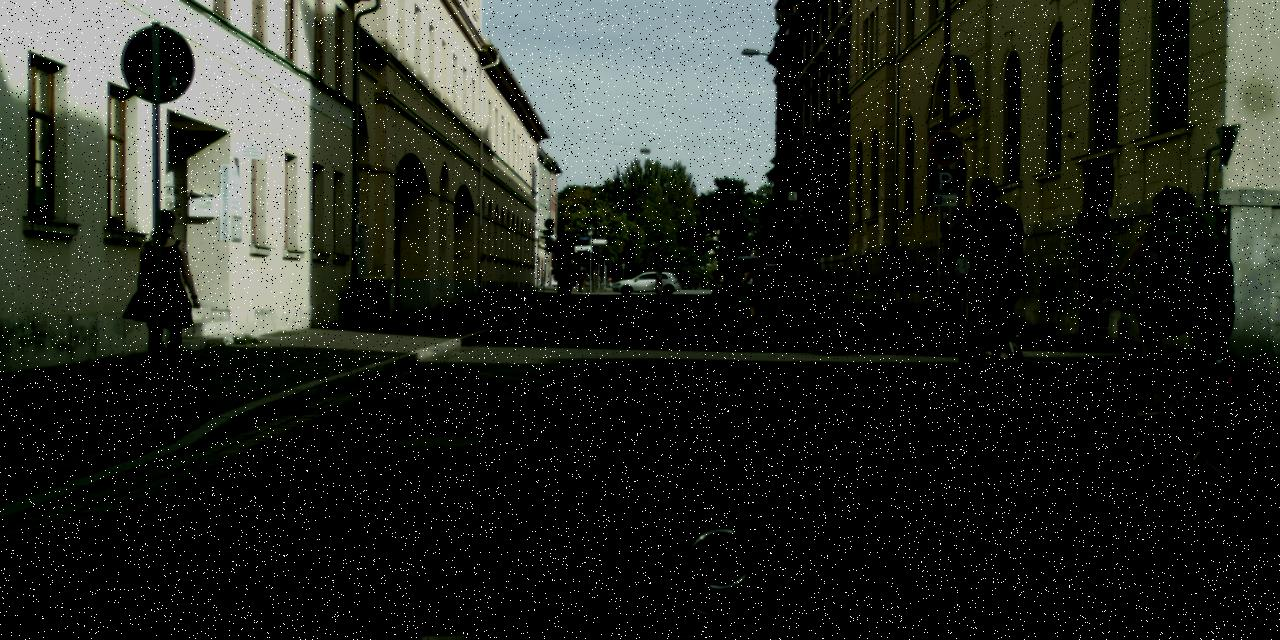ped: (1128, 187, 1232, 441), (947, 175, 1032, 384), (131, 209, 200, 379), (747, 255, 776, 326), (719, 250, 745, 314), (554, 255, 574, 302), (798, 252, 816, 296), (796, 260, 810, 294), (576, 266, 586, 290)
